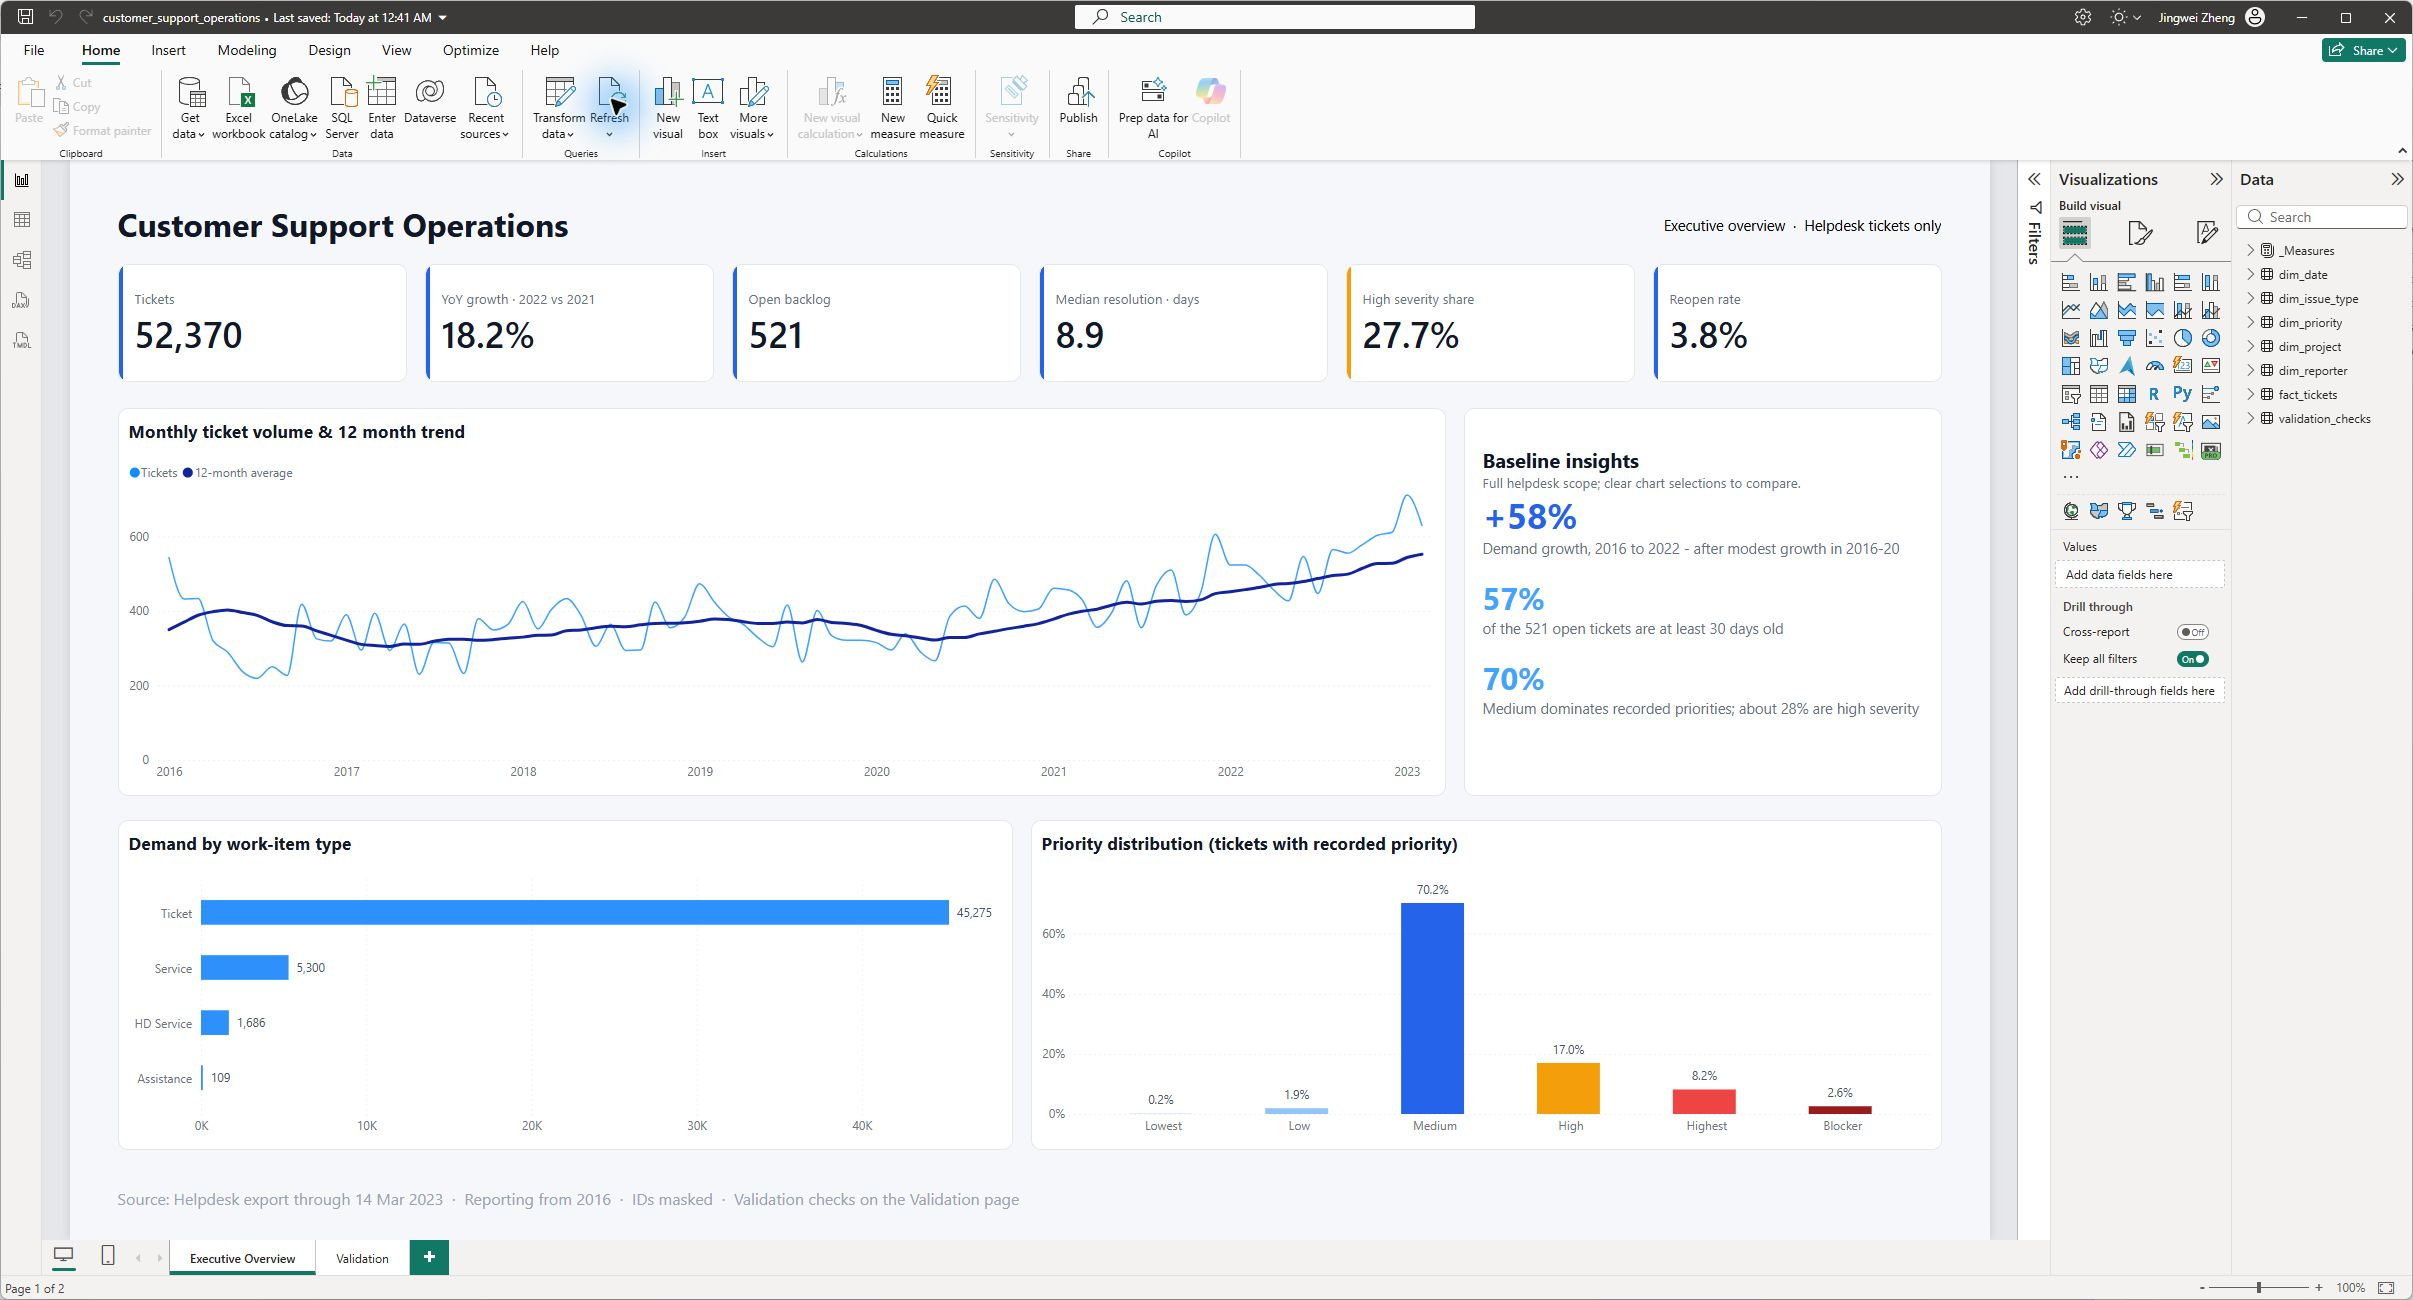

This screenshot's page, from the dashboard's own definition file:
{"tool":"powerbi","page":{"name":"Executive Overview","canvas":[1920,1080],"ordinal":0},"visuals":[{"type":"cardVisual","fields":{"Data":["_Measures.Tickets"]},"box":[48,104,289,118],"z":0},{"type":"cardVisual","fields":{"Data":["_Measures.Open Backlog"]},"box":[662,104,289,118],"z":1000},{"type":"cardVisual","fields":{"Data":["_Measures.Reopen Rate %"]},"box":[1583,104,289,118],"z":2000},{"type":"cardVisual","fields":{"Data":["_Measures.Median Resolution Days"]},"box":[969,104,289,118],"z":3000},{"type":"cardVisual","title":"Tickets 2022 vs 2021","fields":{"Data":["_Measures.Tickets YoY %"]},"box":[355,104,289,118],"z":4000},{"type":"clusteredBarChart","title":"Demand by work-item type","fields":{"Category":["dim_issue_type.issue_type"],"Y":["_Measures.Tickets"]},"box":[48,660,895,330],"z":5000},{"type":"clusteredColumnChart","title":"Priority distribution (tickets with recorded priority)","fields":{"Category":["dim_priority.priority"],"Y":["_Measures.Share of Tickets %"]},"box":[961,660,911,330],"z":6000},{"type":"lineChart","title":"Monthly ticket volume & 12 month trend","fields":{"Category":["dim_date.Month Start"],"Y":["_Measures.Tickets","_Measures.Tickets Rolling 12M"]},"box":[48,248,1328,388],"z":7000},{"type":"textbox","box":[47.9,41.6,850,54],"z":8000},{"type":"textbox","box":[1394,248,478,388],"z":9000},{"type":"textbox","box":[47.9,1028.1,950.4,34.3],"z":10000},{"type":"textbox","box":[1582.7,55.1,288.8,27],"z":11000},{"type":"cardVisual","fields":{"Data":["_Measures.High Severity Share %"]},"box":[1276,104,289,118],"z":12000}]}

Visuals, with their boxes on the page's 1920x1080 design canvas (x1, y1, x2, y2). These are canvas units, not pixel positions in the 2413x1300 screenshot, which may show the page scaled, cropped or inside an application window:
cardVisual - _Measures.Tickets: region(48, 104, 337, 222)
cardVisual - _Measures.Open Backlog: region(662, 104, 951, 222)
cardVisual - _Measures.Reopen Rate %: region(1583, 104, 1872, 222)
cardVisual - _Measures.Median Resolution Days: region(969, 104, 1258, 222)
"Tickets 2022 vs 2021" cardVisual: region(355, 104, 644, 222)
"Demand by work-item type" clusteredBarChart: region(48, 660, 943, 990)
"Priority distribution (tickets with recorded priority)" clusteredColumnChart: region(961, 660, 1872, 990)
"Monthly ticket volume & 12 month trend" lineChart: region(48, 248, 1376, 636)
textbox: region(48, 42, 898, 96)
textbox: region(1394, 248, 1872, 636)
textbox: region(48, 1028, 998, 1062)
textbox: region(1583, 55, 1872, 82)
cardVisual - _Measures.High Severity Share %: region(1276, 104, 1565, 222)
